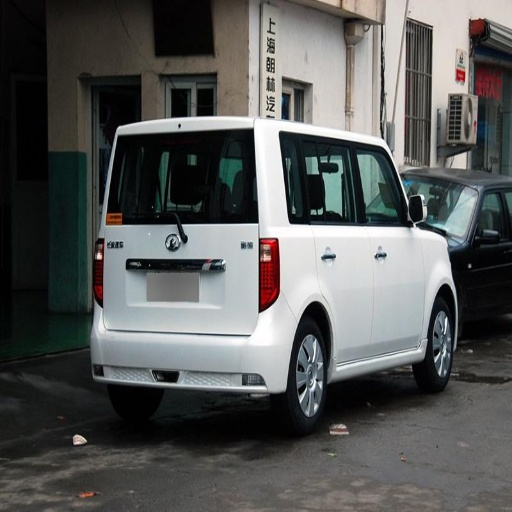back_bumper: (90, 307, 298, 389)
back_right_door: (298, 140, 373, 361)
trunk: (103, 225, 259, 331)
